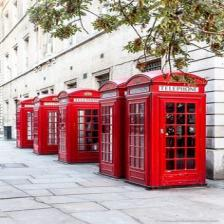red: (100, 71, 208, 188), (58, 89, 100, 163), (33, 94, 58, 154), (16, 98, 34, 148)
